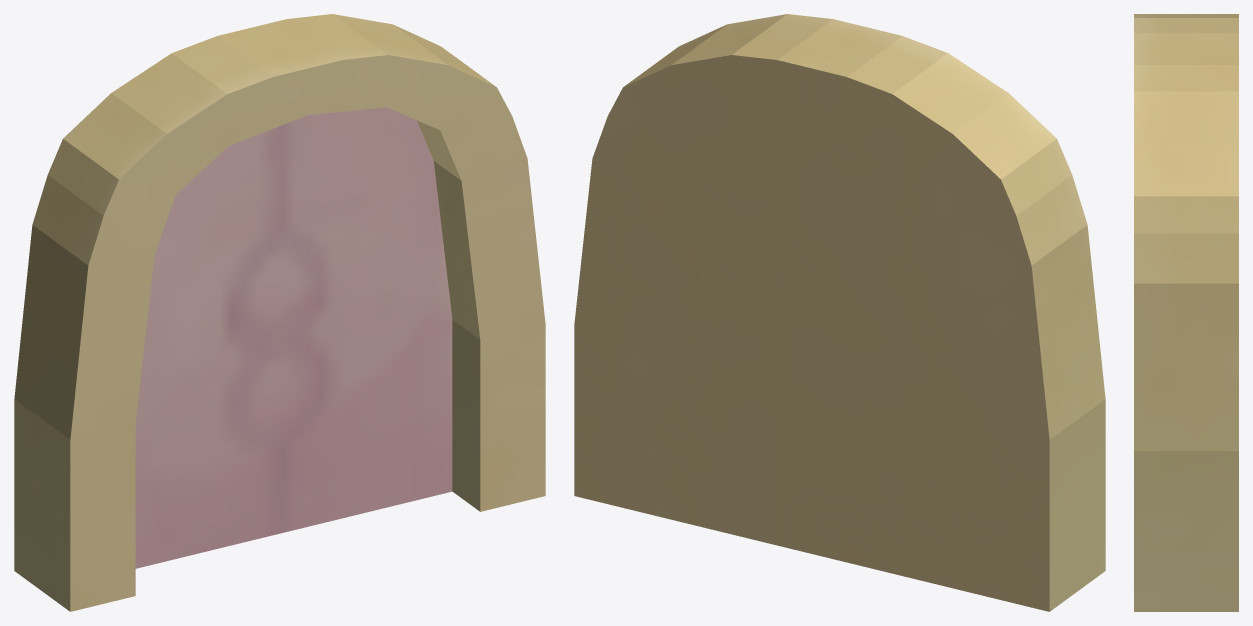
The model's file is door_standard.fbx.
The picture shows the model from 3 angles, left to right: view 1: azimuth 30°, elevation 25°; view 2: azimuth 150°, elevation 25°; view 3: azimuth 270°, elevation 25°; orthographic projection. The views are drawn at different scales.
Visible parts, largest first — view 1: Door.007; view 2: Door.007; view 3: Door.007.
Boxes of the visible parts, x1=… form: Door.007: x1=14, y1=14, x2=545, y2=611; Door.007: x1=574, y1=14, x2=1105, y2=611; Door.007: x1=1134, y1=14, x2=1238, y2=611.
Size of the model in its own units: 291 by 284 by 59.44.
